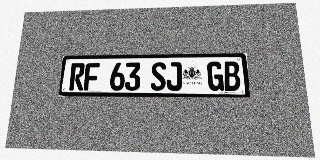3: (125, 62, 140, 91)
6: (109, 62, 125, 91)
B: (223, 61, 241, 91)
F: (84, 63, 100, 90)
G: (207, 61, 224, 91)
J: (166, 62, 182, 91)
R: (69, 63, 85, 90)
S: (151, 62, 166, 91)
